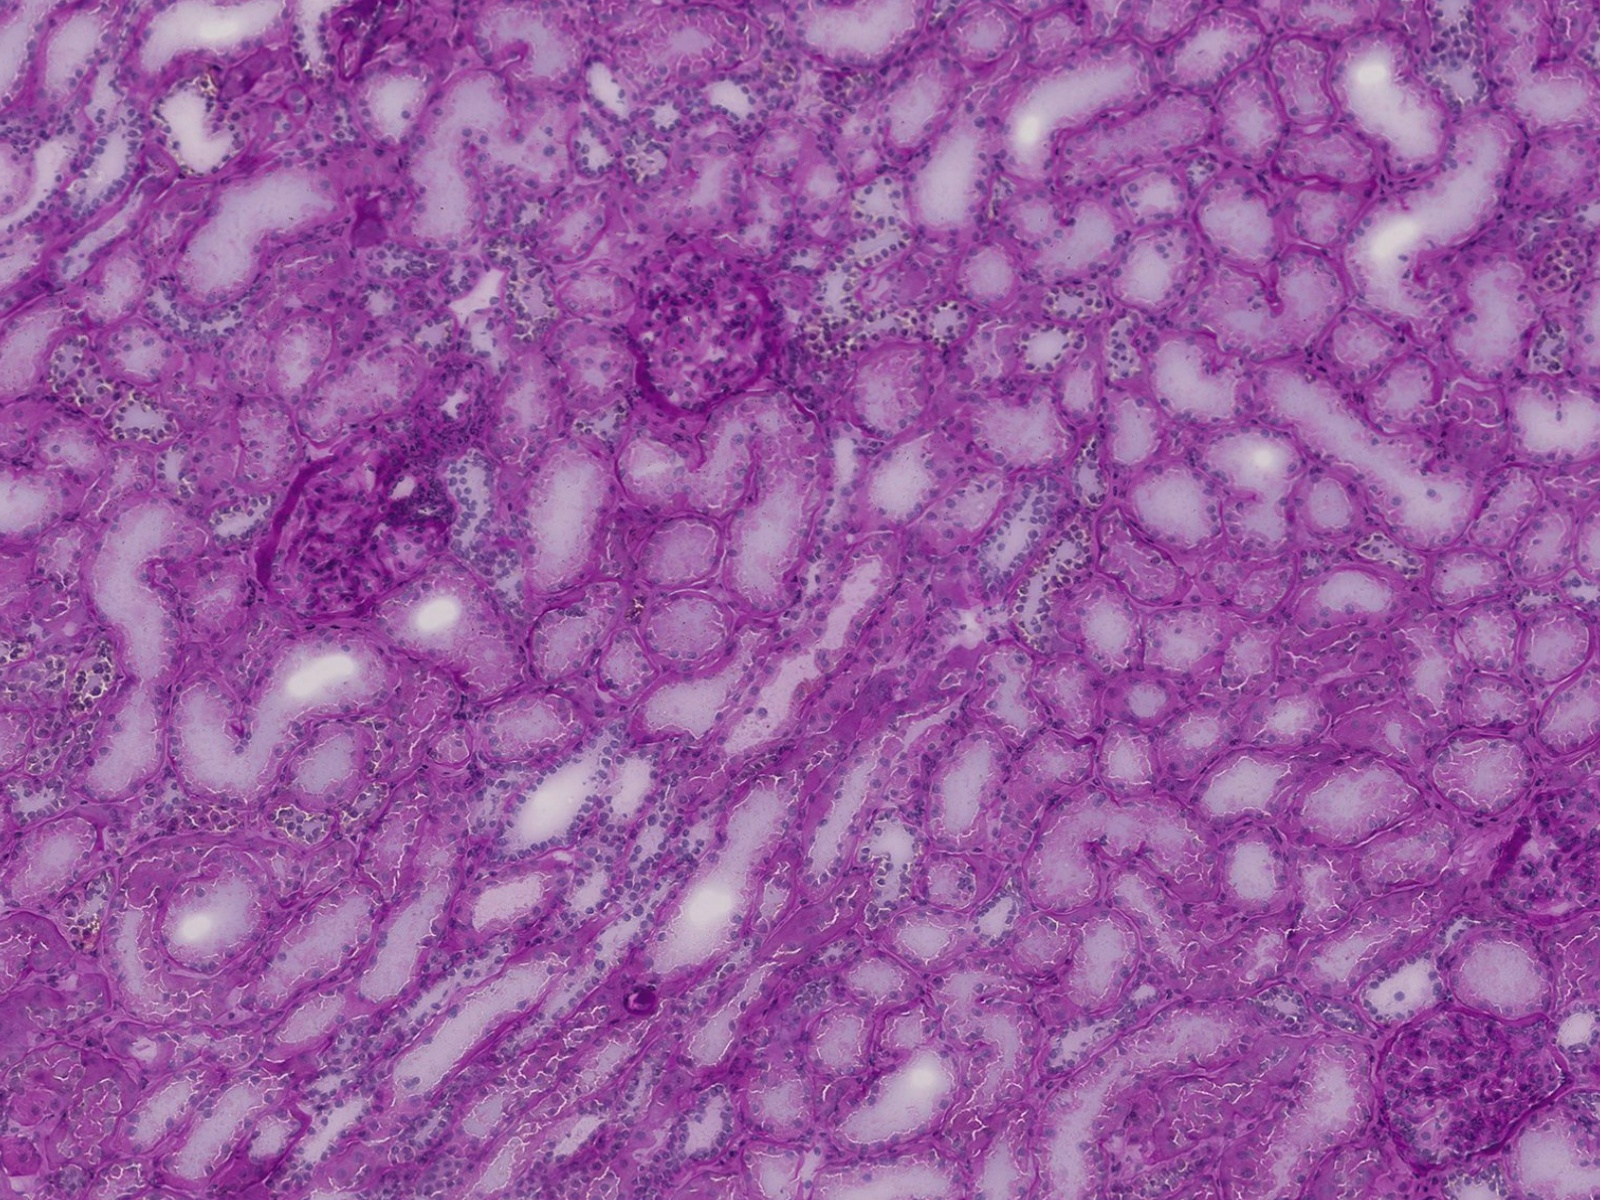Glomeruli: (257, 435, 460, 632), (1364, 1000, 1586, 1179), (624, 258, 784, 413), (1480, 785, 1600, 924)
